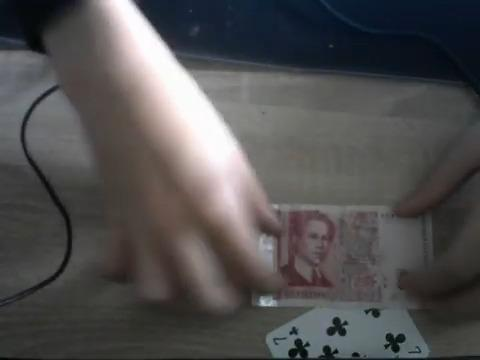5leva: (277, 212, 416, 305)
